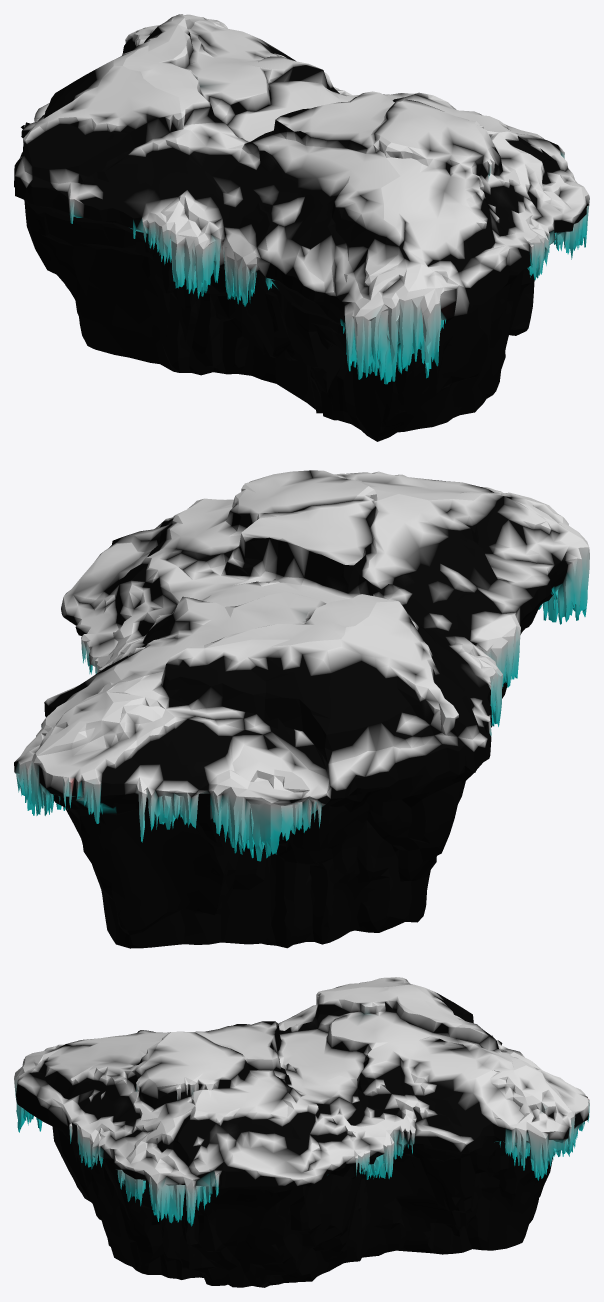
File: CliffIce_1.fbx
3 renders of one model, top to bottom at view 1: azimuth 30°, elevation 25°; view 2: azimuth 150°, elevation 25°; view 3: azimuth 270°, elevation 25°, orthographic. The views are drawn at different scales.
Parts seen in each view (by area): view 1: CliffIce_1_LOD0; view 2: CliffIce_1_LOD0; view 3: CliffIce_1_LOD0.
Part boxes in pixels (x1,y1,x2,y2): CliffIce_1_LOD0: (14,14,589,441); CliffIce_1_LOD0: (14,470,589,948); CliffIce_1_LOD0: (14,977,589,1287).
Size of what is drawn, in the model's own units: 1686 by 951 by 2381.
